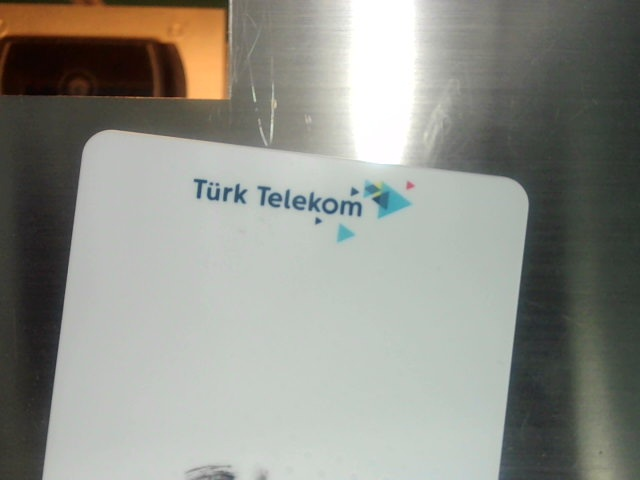AQ_TURKTelekom: (185, 173, 424, 246)
